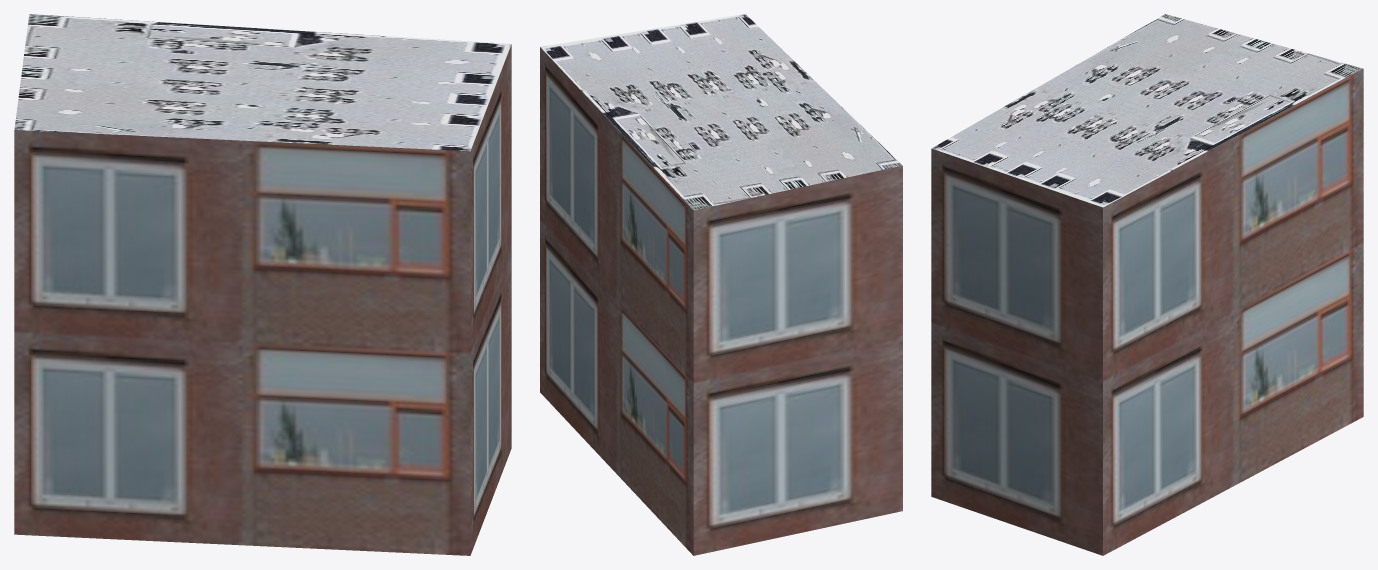
Rendered from ResTex__3251.fbx.
3 renders of one model, left to right at view 1: azimuth 30°, elevation 25°; view 2: azimuth 150°, elevation 25°; view 3: azimuth 270°, elevation 25°, orthographic. The views are drawn at different scales.
Visible parts, largest first — view 1: CityEngineMaterial_19_m, CityEngineMaterial_15_m; view 2: CityEngineMaterial_19_m, CityEngineMaterial_15_m; view 3: CityEngineMaterial_19_m, CityEngineMaterial_15_m.
Boxes of the visible parts, left/top/right/bottom form: CityEngineMaterial_19_m: left=14, top=44, right=511, bottom=555; CityEngineMaterial_15_m: left=14, top=14, right=511, bottom=151; CityEngineMaterial_19_m: left=540, top=47, right=902, bottom=555; CityEngineMaterial_15_m: left=540, top=14, right=902, bottom=210; CityEngineMaterial_19_m: left=931, top=68, right=1363, bottom=555; CityEngineMaterial_15_m: left=931, top=14, right=1362, bottom=207.
Bounding box in the file's own units: 7.15 × 6 × 6.74.
Materials: 2 (2 with a texture image).
